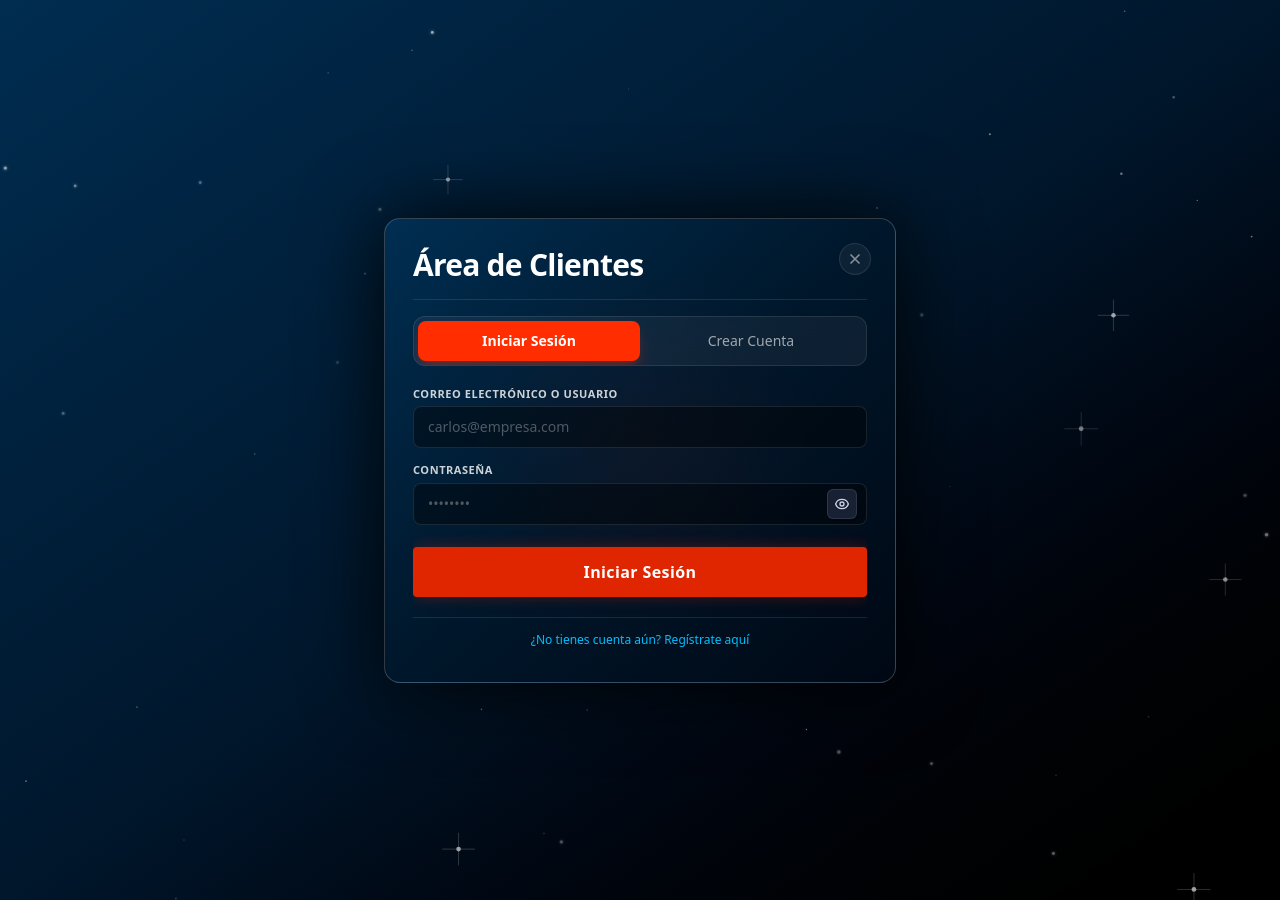
Test: AuthModal Component (100% Coverage Suite) › debe validar campos vacíos en modo login y en modo registro
Submit the form, box [413,386,867,596]
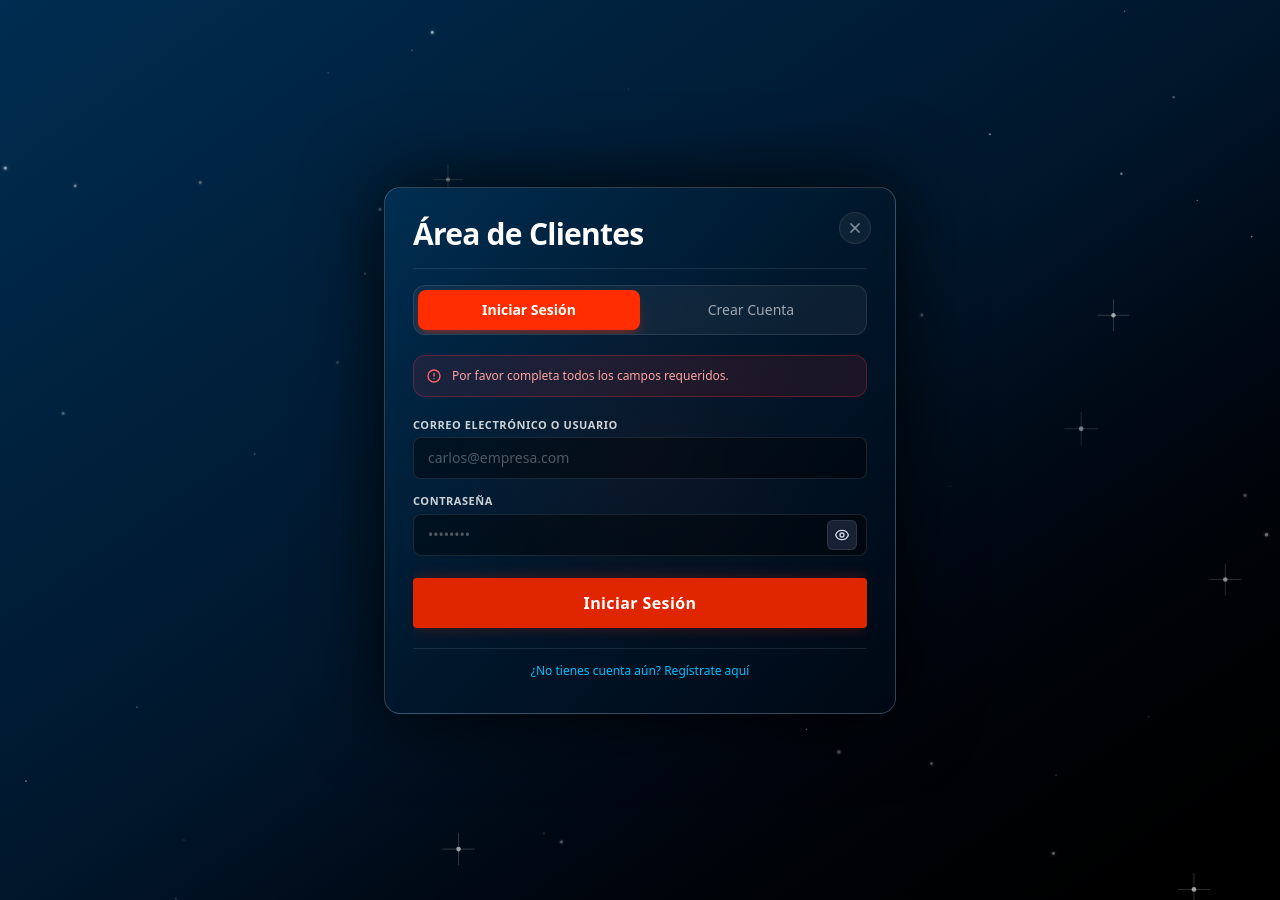
expect the text "Por favor completa todos los campos requeridos." is shown: met, box [452,368,729,384]
Note: Switch to register mode via tab
Click the button "Crear Cuenta" at (751, 310), box [640,290,862,330]
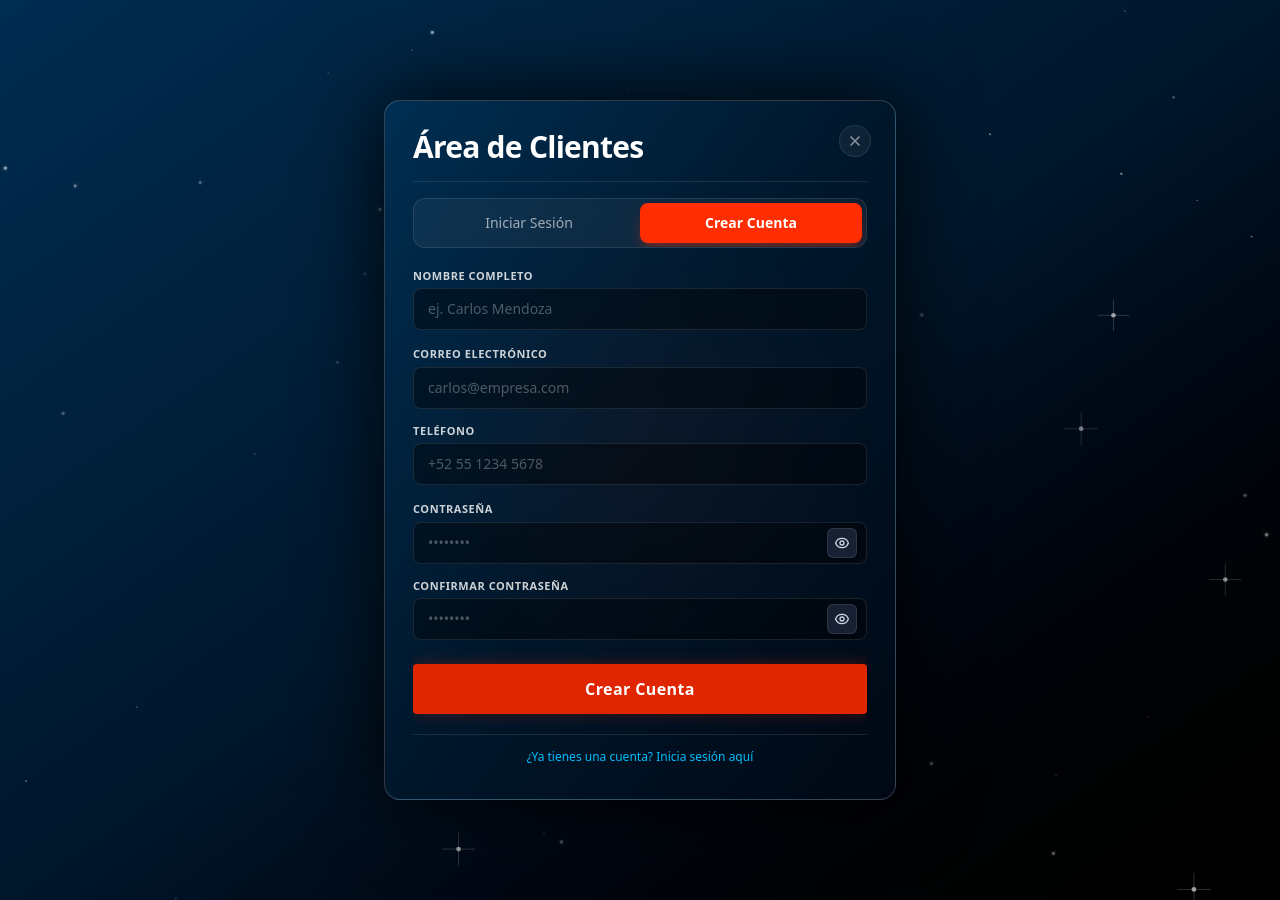
Type "Carlos Mendoza" into the field with placeholder "ej. Carlos Mendoza" at (640, 309), box [413,288,867,330]
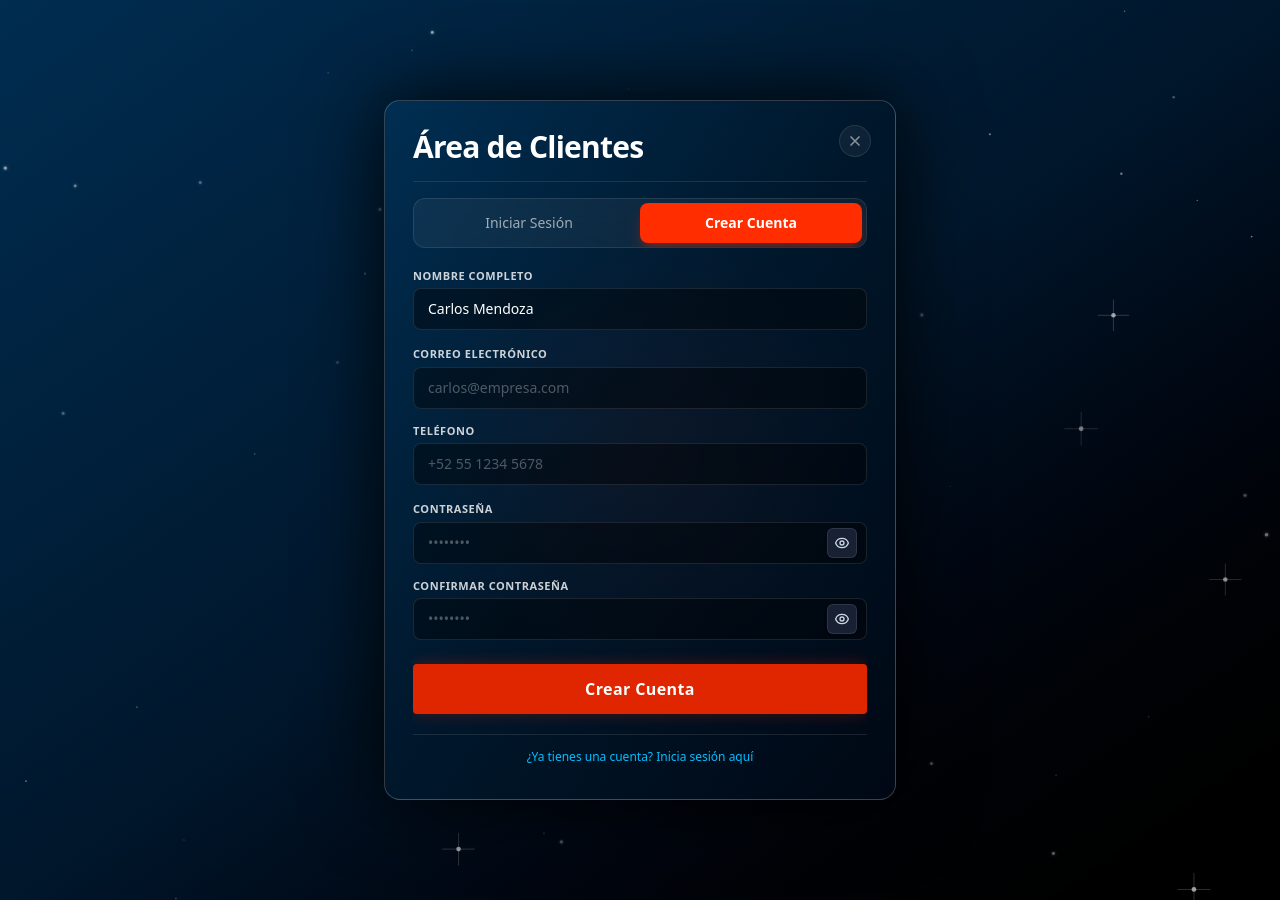
Submit the form, box [413,268,867,714]
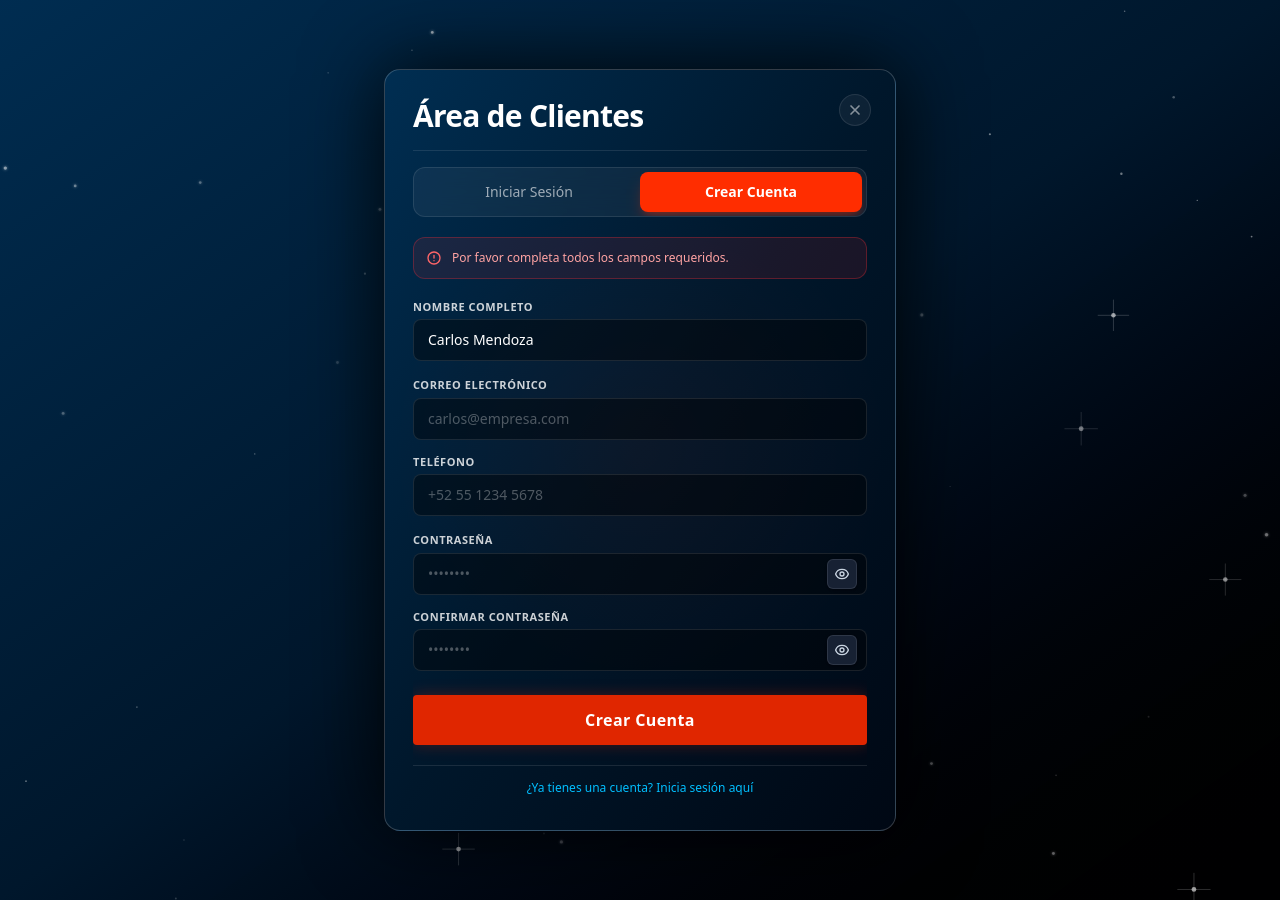
expect the text "Por favor completa todos los campos requeridos." is shown: met, box [452,250,729,266]
